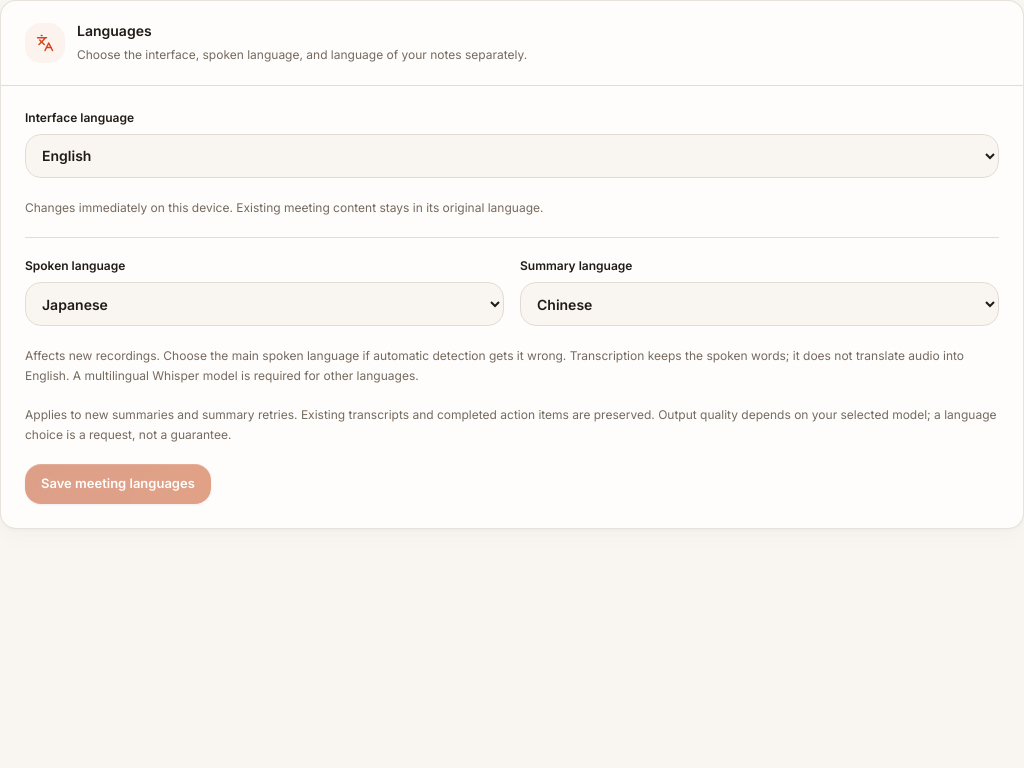
Test: independent language preferences › keeps ja interface choice separate from Japanese/Chinese meeting codes
Expected: the dropdown labelled "Spoken language" is enabled, x1=25 y1=282 x2=504 y2=326
Select "日本語" in the dropdown labelled "Interface language" at x=512, y=156, box x1=25 y1=134 x2=999 y2=178
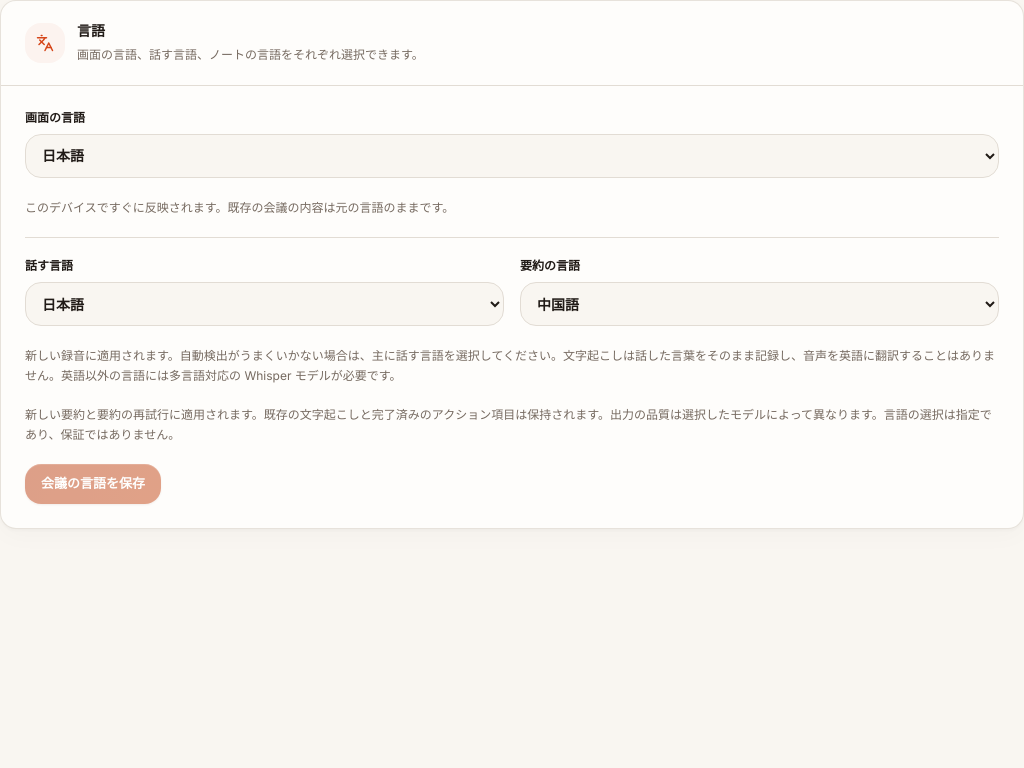
Now the dropdown labelled "話す言語" shows "日本語", box x1=25 y1=282 x2=504 y2=326
Select "日本語" in the dropdown labelled "要約の言語" at x=760, y=304, box x1=520 y1=282 x2=999 y2=326
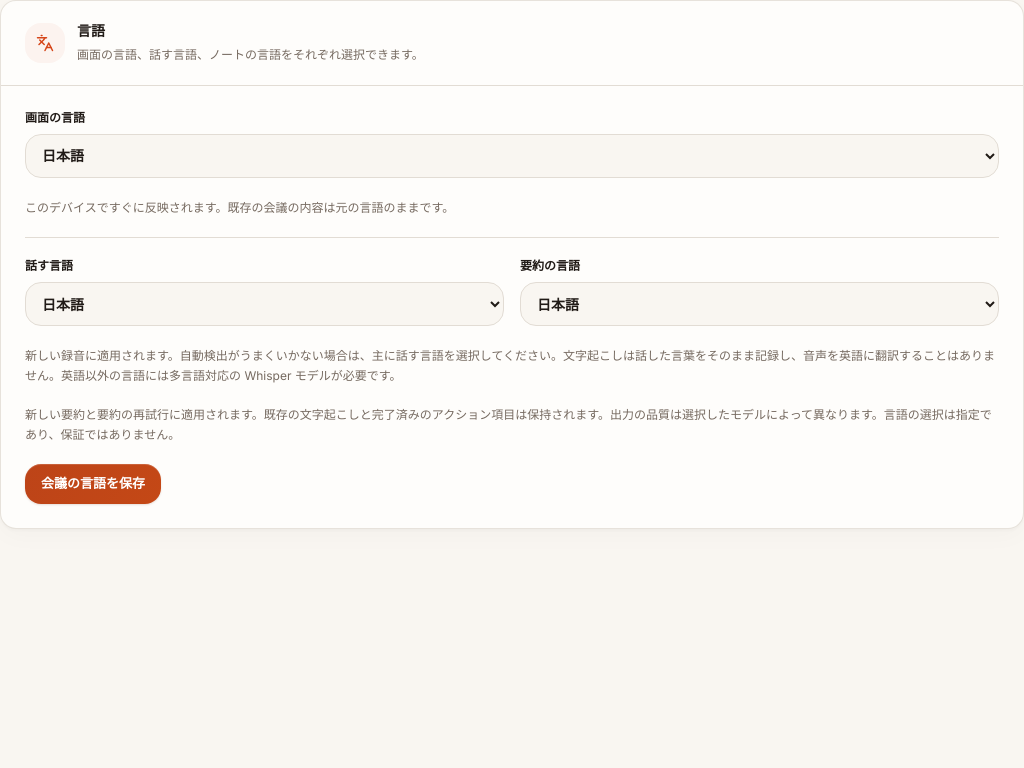
Click the button "会議の言語を保存" at x=93, y=484, box x1=25 y1=464 x2=161 y2=504
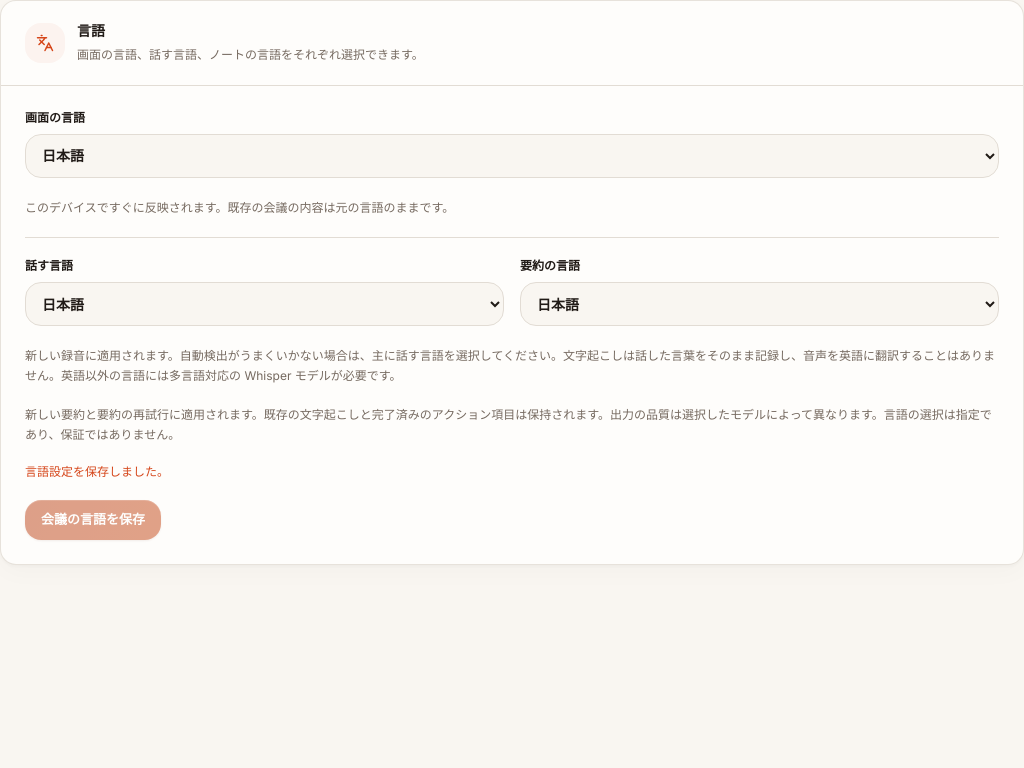
Now the text "言語設定を保存しました。" is shown, box x1=25 y1=464 x2=169 y2=479
